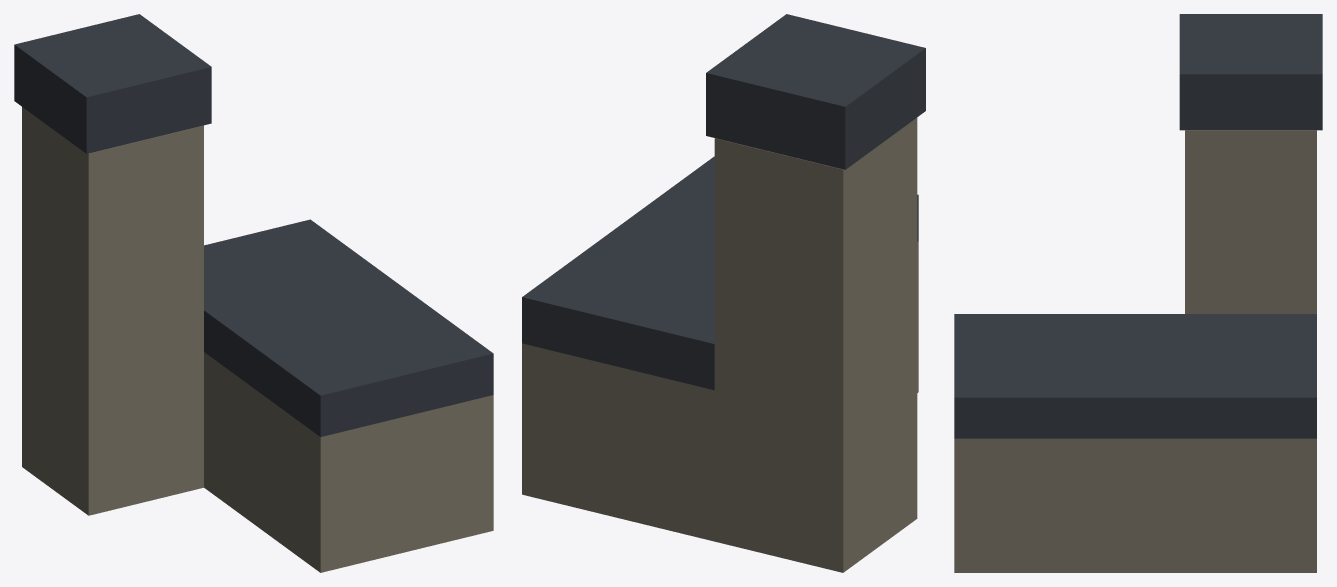
File: fort-chapel.tone-v1.lod2.glb
3 views of the same model, side by side, from view 1: azimuth 30°, elevation 25°; view 2: azimuth 150°, elevation 25°; view 3: azimuth 270°, elevation 25° (orthographic). The views are drawn at different scales.
Parts seen in each view (by area): view 1: fort-chapel; view 2: fort-chapel; view 3: fort-chapel.
Boxes of the visible parts, <box> form: fort-chapel: <box>14,14,493,572</box>; fort-chapel: <box>522,14,925,572</box>; fort-chapel: <box>954,14,1322,572</box>.
Size of the model in its own units: 20.34 by 27.95 by 22.34.
